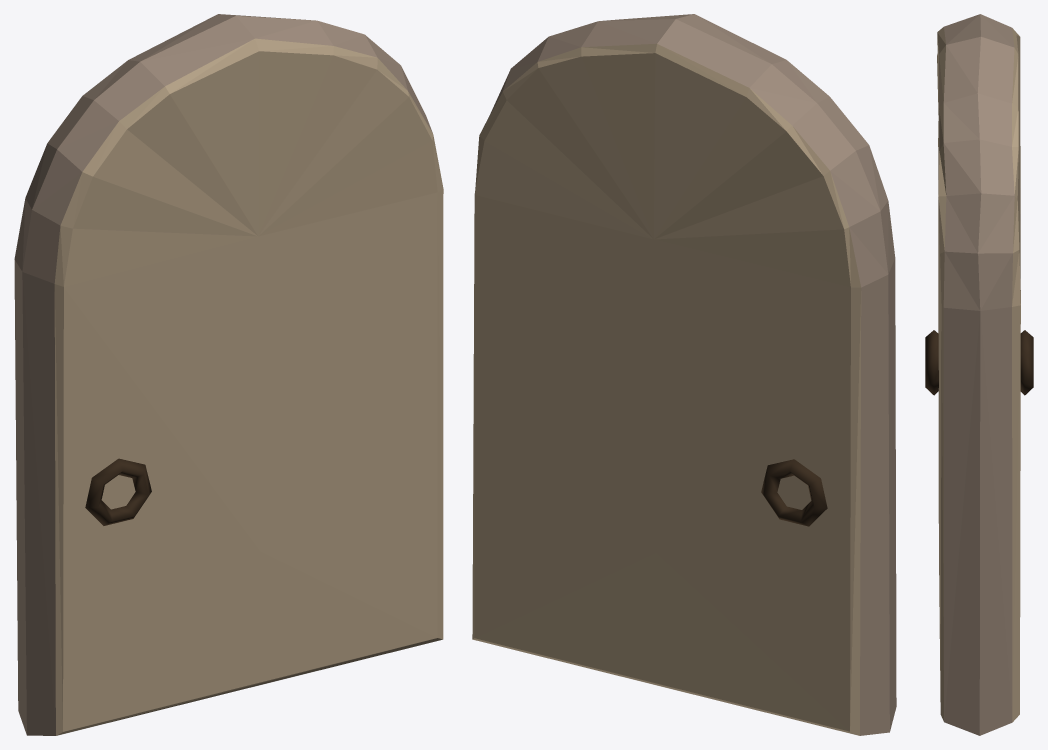
Rendered from RG-Dungeon_Door.fbx.
3 views of the same model, side by side, from view 1: azimuth 30°, elevation 25°; view 2: azimuth 150°, elevation 25°; view 3: azimuth 270°, elevation 25° (orthographic). The views are drawn at different scales.
Parts seen in each view (by area): view 1: RG-Dungeon_Door; view 2: RG-Dungeon_Door; view 3: RG-Dungeon_Door.
Boxes of the visible parts, <box> form: RG-Dungeon_Door: <box>14,14,443,735</box>; RG-Dungeon_Door: <box>472,14,896,735</box>; RG-Dungeon_Door: <box>925,14,1033,735</box>.
Size of the model in its own units: 5.77 by 8.92 by 1.44.
